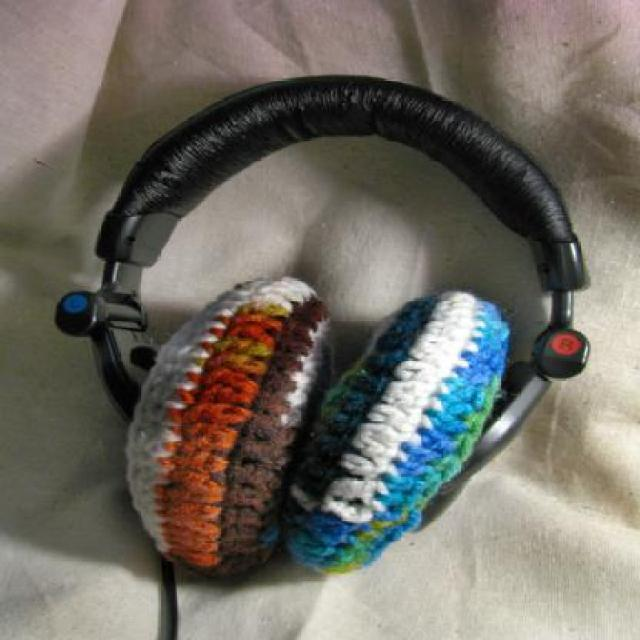earphone: (42, 18, 602, 588)
